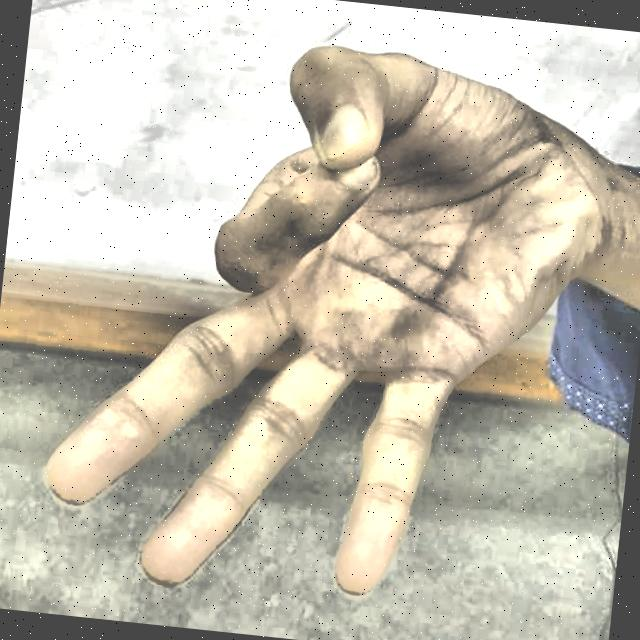Fa: (28, 2, 617, 638)
